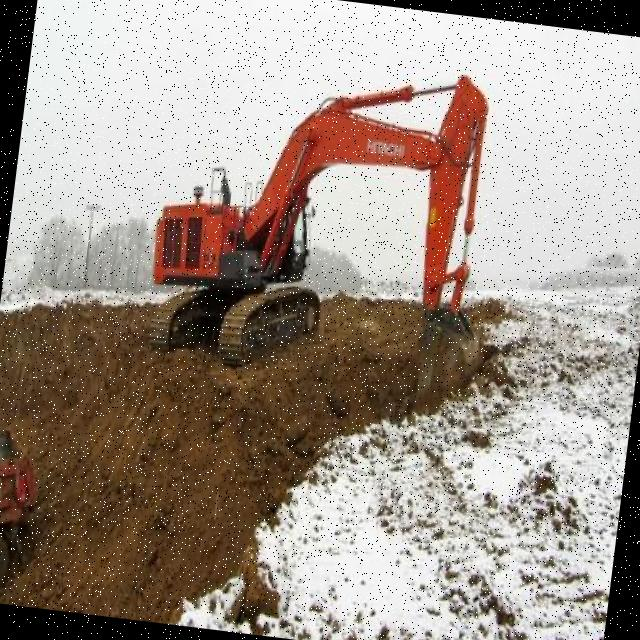Dump Truck: (0, 416, 46, 606)
Excavator: (135, 36, 512, 422)
